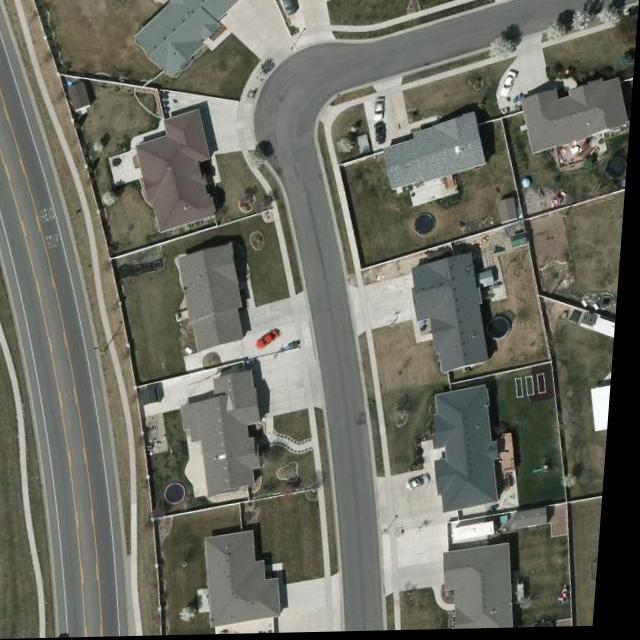vehicle: (258, 330, 289, 352), (499, 71, 520, 100), (414, 476, 439, 493), (374, 125, 391, 148), (278, 0, 299, 17), (375, 99, 386, 123)
